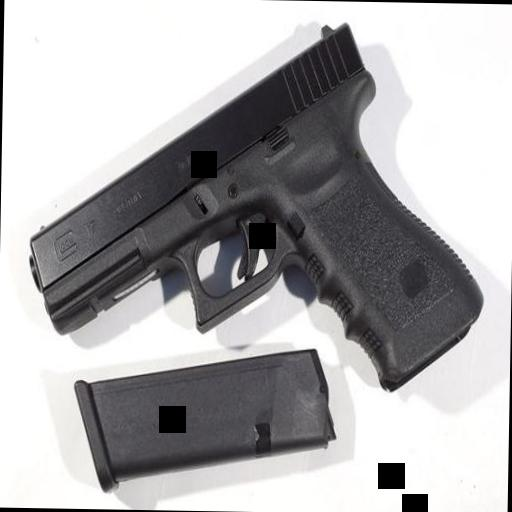Handgun: (21, 12, 487, 420)
